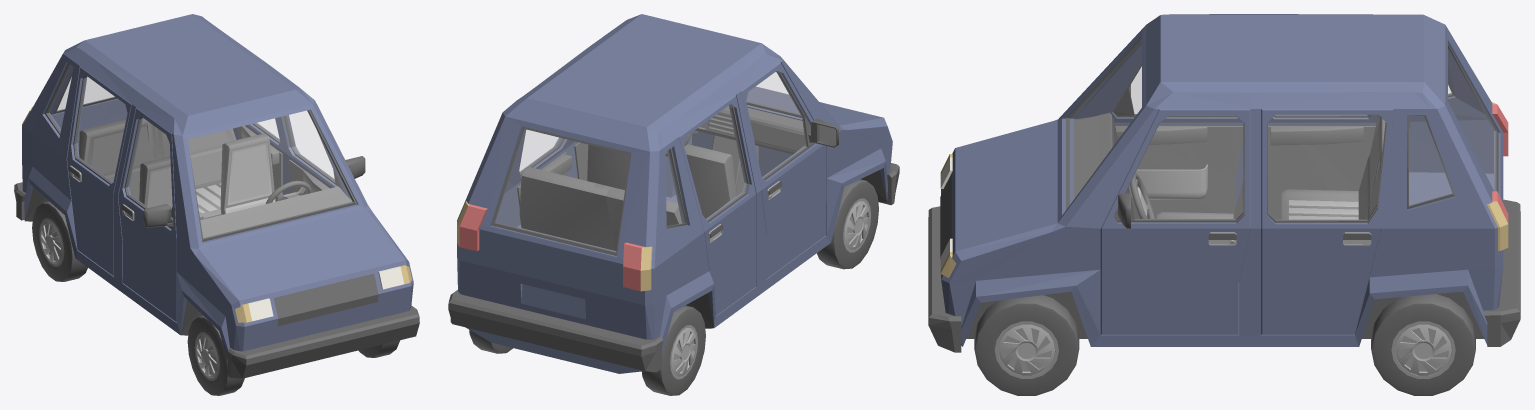
Rendered from toon.glb.
The picture shows the model from 3 angles, left to right: view 1: azimuth 30°, elevation 25°; view 2: azimuth 150°, elevation 25°; view 3: azimuth 270°, elevation 25°; orthographic projection. The views are drawn at different scales.
Visible parts, largest first — view 1: Chassis_Chassis_0, Windows_Windows_0, Chassis_Bumpers_0, Interior_InteriorPanel_0, FR_Door_Chassis_0, RR_Door_Chassis_0, Interior_Handler_0, RR_Door_Windows_0, FR_Door_Windows_0, RR_Wheel_Tire_0, FR_Wheel_Tire_0, FL_Door_Windows_0 (+13 smaller); view 2: Chassis_Chassis_0, Windows_Windows_0, Interior_InteriorPanel_0, Chassis_Bumpers_0, FR_Door_Chassis_0, RR_Door_Chassis_0, RR_Door_Windows_0, FR_Door_Windows_0, FR_Wheel_Tire_0, RR_Wheel_Tire_0, Brake_Lights_Brake_lights_0, Interior_InteriorPanel_0001 (+12 smaller); view 3: Chassis_Chassis_0, FL_Door_Chassis_0, RL_Door_Chassis_0, RL_Door_Windows_0, Windows_Windows_0, FL_Door_Windows_0, Chassis_Bumpers_0, RR_Door_InteriorPanel_0, FR_Door_InteriorPanel_0, RL_Wheel_Tire_0, FL_Wheel_Tire_0, Interior_InteriorPanel_0 (+14 smaller).
Part boxes in pixels (x1=…): Chassis_Chassis_0: x1=22, y1=14, x2=413, y2=360; Windows_Windows_0: x1=48, y1=65, x2=352, y2=237; Chassis_Bumpers_0: x1=14, y1=63, x2=419, y2=378; Interior_InteriorPanel_0: x1=79, y1=118, x2=352, y2=237; FR_Door_Chassis_0: x1=118, y1=108, x2=176, y2=321; RR_Door_Chassis_0: x1=67, y1=67, x2=131, y2=276; Interior_Handler_0: x1=147, y1=142, x2=274, y2=213; RR_Door_Windows_0: x1=76, y1=77, x2=126, y2=182; FR_Door_Windows_0: x1=127, y1=118, x2=171, y2=207; RR_Wheel_Tire_0: x1=32, y1=201, x2=87, y2=281; FR_Wheel_Tire_0: x1=187, y1=315, x2=244, y2=395; FL_Door_Windows_0: x1=286, y1=111, x2=334, y2=180; Chassis_Chassis_0: x1=457, y1=14, x2=892, y2=373; Windows_Windows_0: x1=495, y1=73, x2=798, y2=251; Interior_InteriorPanel_0: x1=519, y1=105, x2=803, y2=250; Chassis_Bumpers_0: x1=448, y1=101, x2=899, y2=372; FR_Door_Chassis_0: x1=741, y1=62, x2=826, y2=278; RR_Door_Chassis_0: x1=678, y1=95, x2=756, y2=315; RR_Door_Windows_0: x1=685, y1=106, x2=746, y2=219; FR_Door_Windows_0: x1=747, y1=73, x2=805, y2=177; FR_Wheel_Tire_0: x1=817, y1=179, x2=878, y2=269; RR_Wheel_Tire_0: x1=642, y1=305, x2=705, y2=395; Brake_Lights_Brake_lights_0: x1=459, y1=204, x2=643, y2=291; Interior_InteriorPanel_0001: x1=691, y1=113, x2=805, y2=151; Chassis_Chassis_0: x1=941, y1=14, x2=1503, y2=346; FL_Door_Chassis_0: x1=1100, y1=109, x2=1250, y2=334; RL_Door_Chassis_0: x1=1261, y1=109, x2=1393, y2=334; RL_Door_Windows_0: x1=1268, y1=115, x2=1384, y2=219; Windows_Windows_0: x1=1069, y1=41, x2=1495, y2=205; FL_Door_Windows_0: x1=1130, y1=116, x2=1242, y2=218; Chassis_Bumpers_0: x1=928, y1=35, x2=1520, y2=352; RR_Door_InteriorPanel_0: x1=1268, y1=126, x2=1375, y2=219; FR_Door_InteriorPanel_0: x1=1115, y1=126, x2=1243, y2=218; RL_Wheel_Tire_0: x1=1371, y1=294, x2=1475, y2=395; FL_Wheel_Tire_0: x1=974, y1=295, x2=1079, y2=395; Interior_InteriorPanel_0: x1=1074, y1=112, x2=1385, y2=219.
Bounding box in the file's own units: 2.57 × 2.58 × 4.69.
